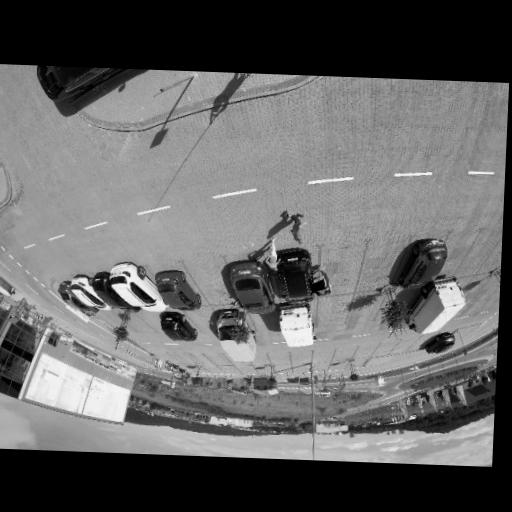busy: (19, 65, 203, 126), (404, 276, 471, 337), (270, 248, 323, 303), (110, 264, 165, 313), (223, 263, 275, 312), (401, 240, 452, 288), (270, 303, 318, 346), (153, 268, 201, 309), (64, 274, 112, 312), (209, 307, 248, 346), (92, 275, 128, 310), (157, 313, 193, 343), (427, 333, 457, 357)
free: (319, 249, 360, 286), (364, 247, 398, 276), (198, 271, 231, 295), (440, 241, 469, 267), (349, 297, 379, 317), (468, 236, 493, 259), (318, 303, 345, 324), (146, 312, 164, 327), (397, 340, 416, 352), (197, 314, 212, 329), (127, 317, 143, 331), (105, 315, 123, 327), (337, 344, 356, 355), (274, 354, 292, 364), (378, 342, 394, 353), (174, 353, 187, 363), (314, 355, 330, 363), (190, 354, 203, 363), (213, 355, 226, 363)
